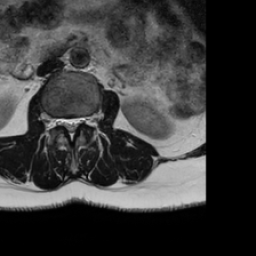CCS_normal: (67, 111, 74, 146)
LFS_normal: (81, 111, 90, 131)
LLS_normal: (74, 109, 81, 133)
RFS_normal: (52, 111, 60, 132)
RLS_normal: (60, 111, 67, 131)
